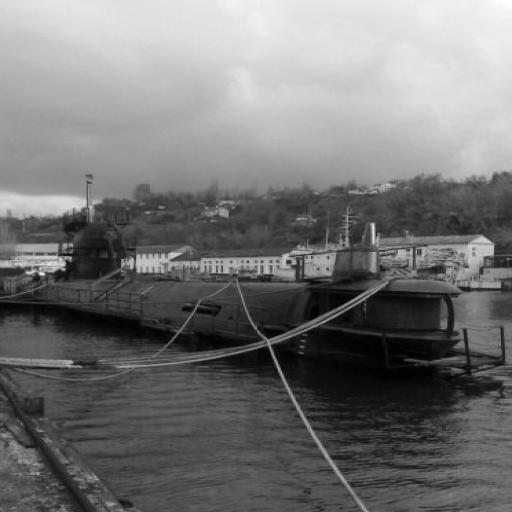submarine: (23, 206, 512, 372)
